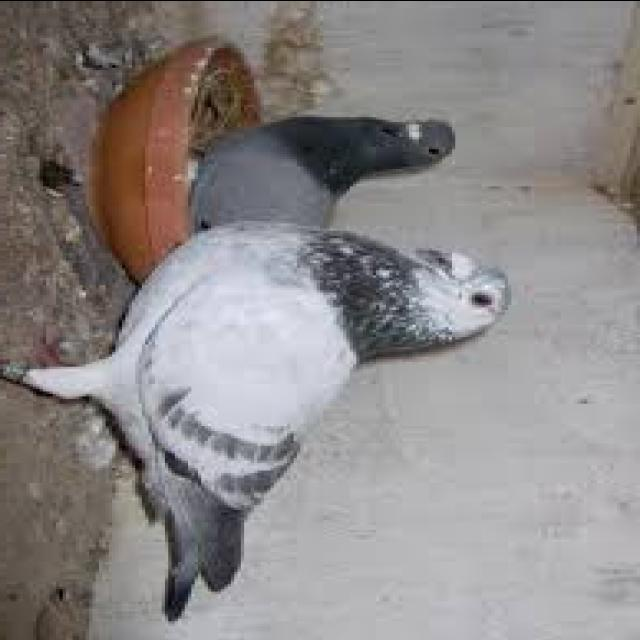pigeon: (9, 210, 539, 624)
